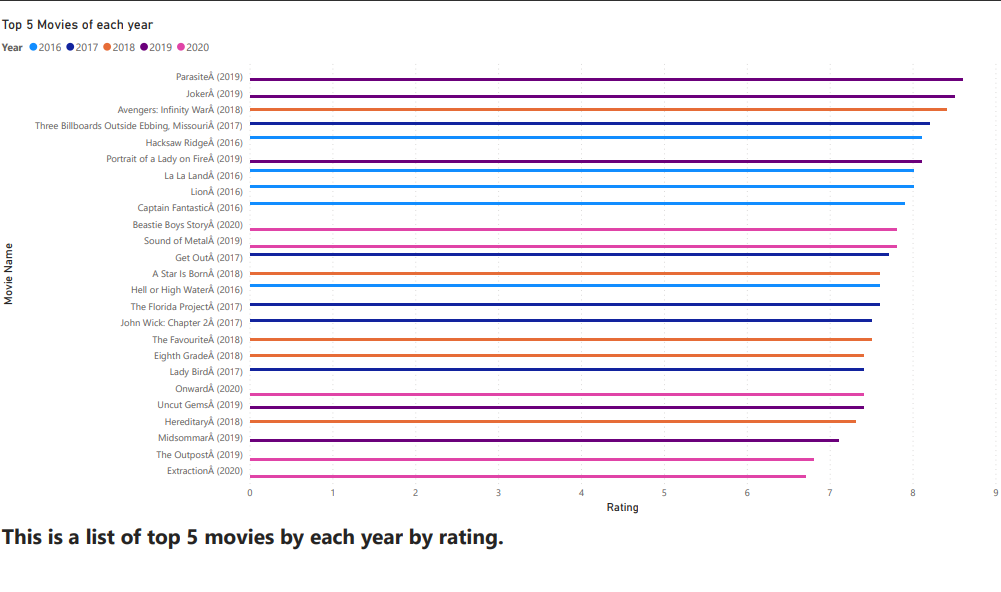

This screenshot's page, from the dashboard's own definition file:
{"tool":"powerbi","page":{"name":"Page 6","canvas":[1280,720],"ordinal":5},"visuals":[{"type":"clusteredBarChart","title":"Top 5 Movies of each year","fields":{"Category":["movies with budget.Movie Name","movies with budget.Year"],"Y":["Sum(movies with budget.Rating)"],"Series":["movies with budget.Year"]},"box":[0,0,1280,638.3],"z":0},{"type":"textbox","box":[0,638.3,1280,82.3],"z":1001}]}

Visuals, with their boxes on the page's 1280x720 design canvas (x1, y1, x2, y2). These are canvas units, not pixel positions in the 1001x592 screenshot, which may show the page scaled, cropped or inside an application window:
"Top 5 Movies of each year" clusteredBarChart: (0,0,1280,638)
textbox: (0,638,1280,721)
